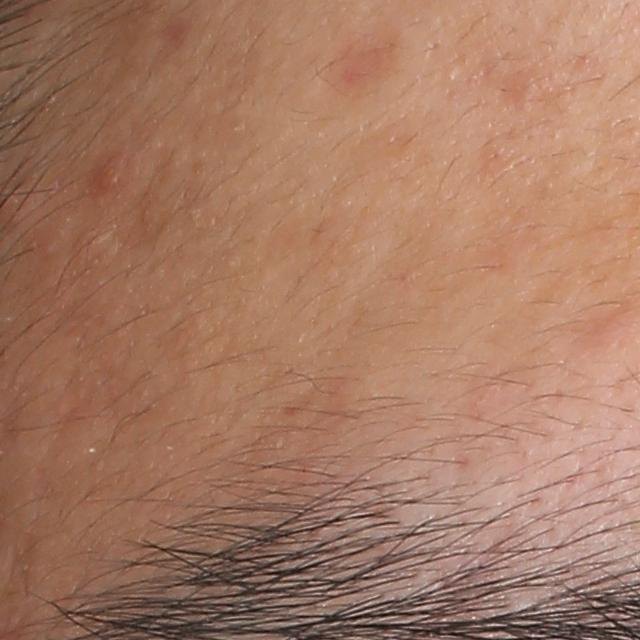papule: (93, 155, 129, 190)
